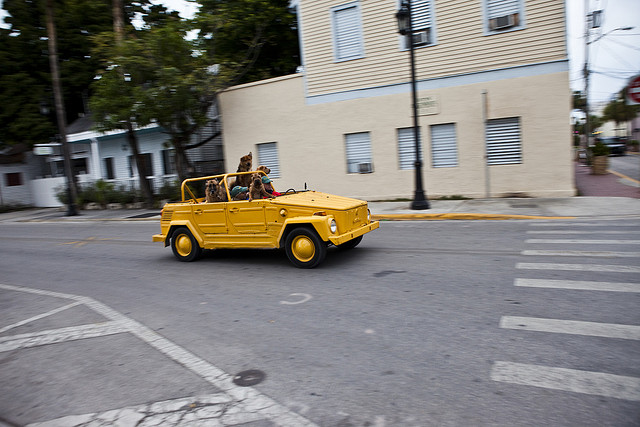Car: (167, 165, 369, 256)
Zebra crossing: (488, 217, 640, 413)
